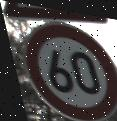Speed Limit -60-: (9, 12, 117, 121)
